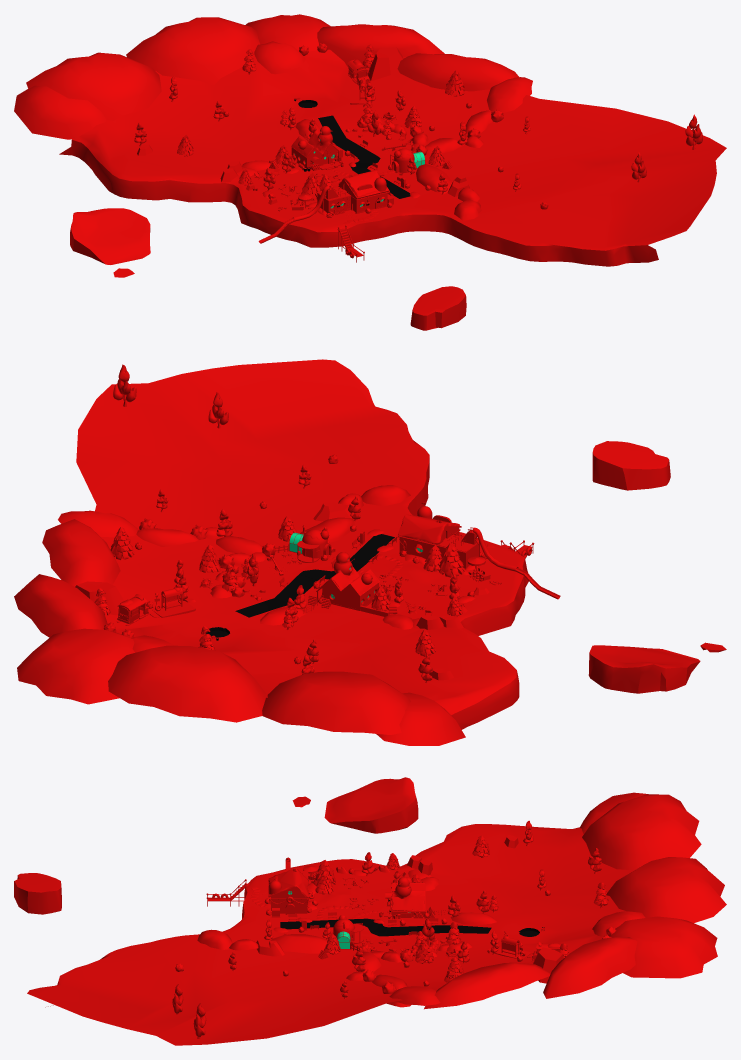
The model's file is Individual_PudgyPort_03.glb.
3 renders of one model, top to bottom at view 1: azimuth 30°, elevation 25°; view 2: azimuth 150°, elevation 25°; view 3: azimuth 270°, elevation 25°, orthographic. The views are drawn at different scales.
Parts seen in each view (by area): view 1: polySurface39, pasted__SnowPatch22, pasted__SnowPatch23, pasted__SnowPatch24, pasted__SnowPatch26, pasted__SnowPatch25, polySurface23, pasted__SnowPatch28, polySurface2, pasted__SnowPatch27, pasted__SnowPatch31, pasted__Object_IceRock9 (+4 smaller); view 2: polySurface39, pasted__SnowPatch22, pasted__SnowPatch23, pasted__SnowPatch28, pasted__SnowPatch26, pasted__SnowPatch25, polySurface23, pasted__SnowPatch24, polySurface2, pasted__SnowPatch31, pCylinder12, pasted__pasted__Foliage_Bush17 (+8 smaller); view 3: polySurface39, pasted__SnowPatch23, pasted__SnowPatch22, pasted__SnowPatch28, pasted__SnowPatch26, pasted__SnowPatch25, polySurface23, polySurface2, pasted__SnowPatch8, pasted__SnowPatch31, pasted__SnowPatch24, pCylinder12 (+7 smaller).
Boxes of the visible parts, x1,y1,x2,y2 form: polySurface39: (59, 49, 726, 330); pasted__SnowPatch22: (126, 17, 260, 85); pasted__SnowPatch23: (26, 52, 161, 120); pasted__SnowPatch24: (14, 85, 106, 139); pasted__SnowPatch26: (317, 24, 444, 66); pasted__SnowPatch25: (397, 53, 518, 91); polySurface23: (258, 170, 389, 243); pasted__SnowPatch28: (245, 14, 330, 51); polySurface2: (291, 126, 340, 170); pasted__SnowPatch27: (254, 41, 305, 74); pasted__SnowPatch31: (487, 77, 532, 112); pasted__Object_IceRock9: (367, 47, 403, 80); polySurface39: (76, 359, 726, 729); pasted__SnowPatch22: (108, 645, 265, 722); pasted__SnowPatch23: (262, 671, 410, 734); pasted__SnowPatch28: (17, 628, 134, 704); pasted__SnowPatch26: (14, 574, 107, 637); pasted__SnowPatch25: (42, 519, 120, 586); polySurface23: (398, 514, 560, 599); pasted__SnowPatch24: (375, 692, 465, 745); polySurface2: (316, 552, 379, 610); pasted__SnowPatch31: (58, 510, 138, 537); pCylinder12: (289, 525, 331, 562); pasted__pasted__Foliage_Bush17: (218, 525, 474, 603); polySurface39: (14, 777, 634, 1045); pasted__SnowPatch23: (582, 794, 701, 870); pasted__SnowPatch22: (606, 857, 726, 922); pasted__SnowPatch28: (609, 916, 717, 978); pasted__SnowPatch26: (543, 937, 637, 998); pasted__SnowPatch25: (424, 962, 550, 1009); polySurface23: (268, 857, 309, 913); polySurface2: (381, 877, 425, 916); pasted__SnowPatch8: (270, 934, 329, 953); pasted__SnowPatch31: (389, 986, 440, 1005); pasted__SnowPatch24: (579, 792, 648, 834); pCylinder12: (333, 919, 363, 949).
Size of the model in its own units: 115 by 13.6 by 120.
